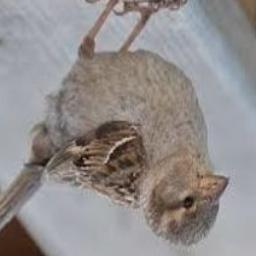Sparrow: (0, 0, 229, 248)
